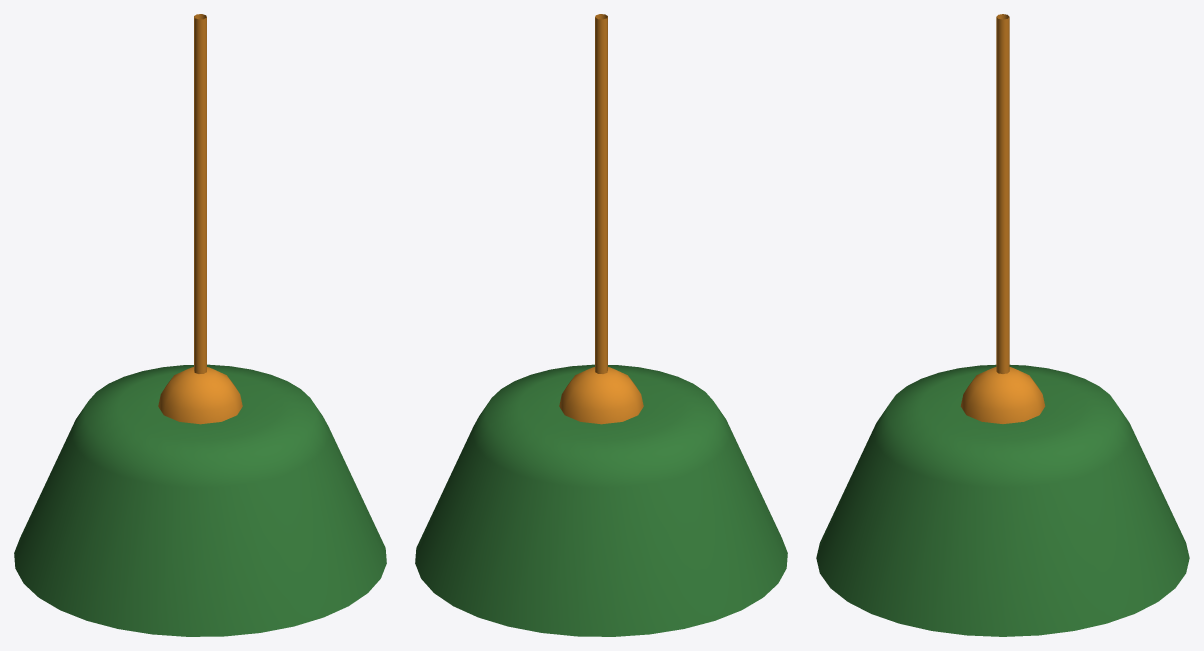
File: Lamp1.fbx
The picture shows the model from 3 angles, left to right: view 1: azimuth 30°, elevation 25°; view 2: azimuth 150°, elevation 25°; view 3: azimuth 270°, elevation 25°; orthographic projection.
Parts seen in each view (by area): view 1: Lamp1; view 2: Lamp1; view 3: Lamp1.
Part boxes in pixels (x1=…): Lamp1: x1=14, y1=14, x2=386, y2=636; Lamp1: x1=415, y1=14, x2=787, y2=636; Lamp1: x1=816, y1=14, x2=1189, y2=636.
Size of the model in its own units: 0.5037 by 0.8121 by 0.5037.
